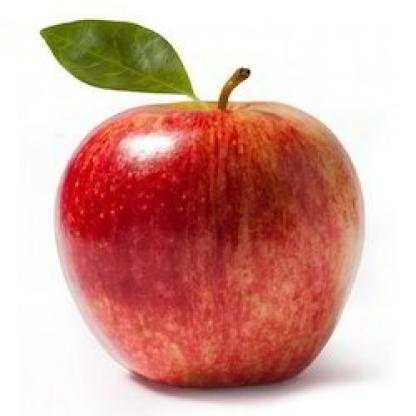apple: (41, 92, 367, 396)
